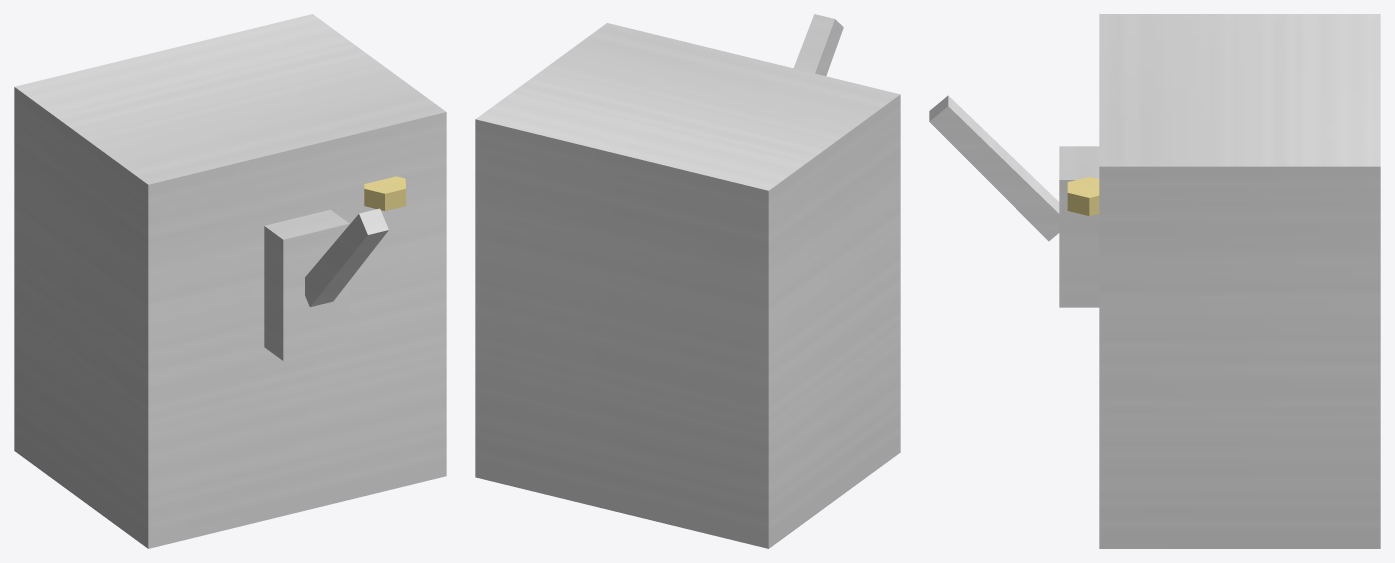
Rendered from power_switch.obj.
3 renders of one model, left to right at view 1: azimuth 30°, elevation 25°; view 2: azimuth 150°, elevation 25°; view 3: azimuth 270°, elevation 25°, orthographic. The views are drawn at different scales.
Visible parts, largest first — view 1: power_switch; view 2: power_switch; view 3: power_switch.
Boxes of the visible parts, bbox=[...] form: power_switch: bbox=[14, 14, 446, 548]; power_switch: bbox=[475, 14, 900, 548]; power_switch: bbox=[929, 14, 1380, 548].
Bounding box in the file's own units: 0.36 × 0.42 × 0.4494.
